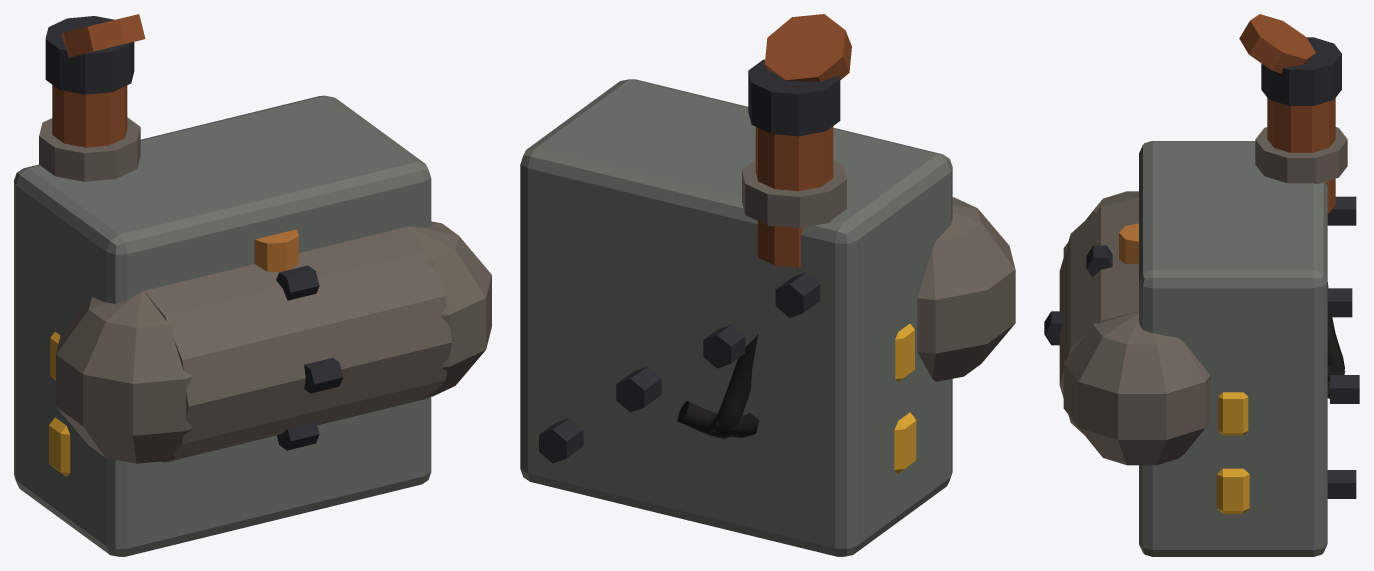
File: mo_bypass.glb
3 views of the same model, side by side, from view 1: azimuth 30°, elevation 25°; view 2: azimuth 150°, elevation 25°; view 3: azimuth 270°, elevation 25° (orthographic). The views are drawn at different scales.
Visible parts, largest first — view 1: mo_bypass; view 2: mo_bypass; view 3: mo_bypass.
Part boxes in pixels (left/top/right/bottom): mo_bypass: left=14, top=14, right=491, bottom=556; mo_bypass: left=520, top=14, right=1015, bottom=556; mo_bypass: left=1044, top=14, right=1359, bottom=556.
Bounding box in the file's own units: 0.1584 × 0.1795 × 0.119.
